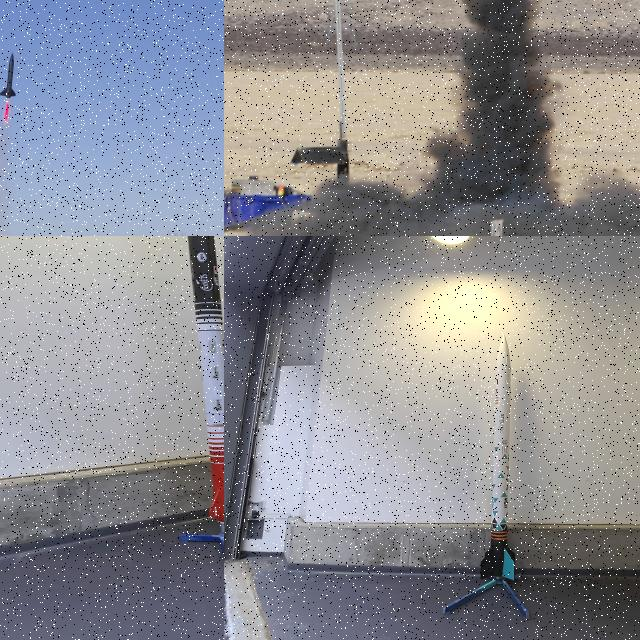Rocket: (187, 236, 224, 524), (480, 333, 515, 581), (0, 52, 16, 99)
